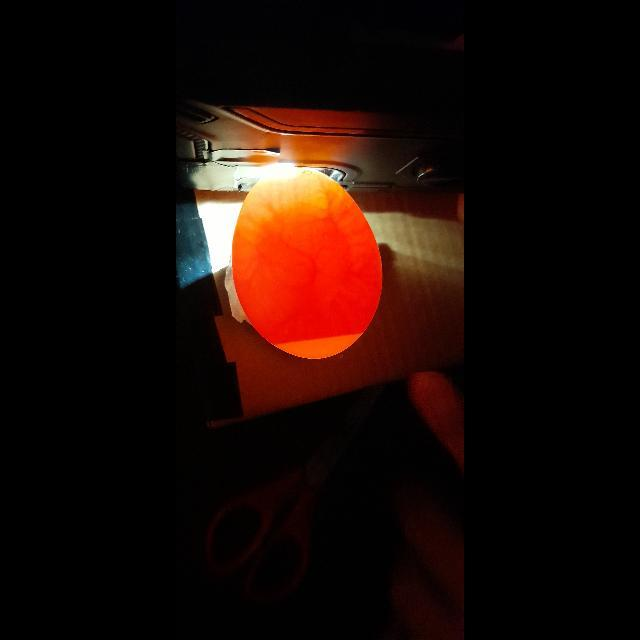Fertile: (228, 171, 388, 361)
